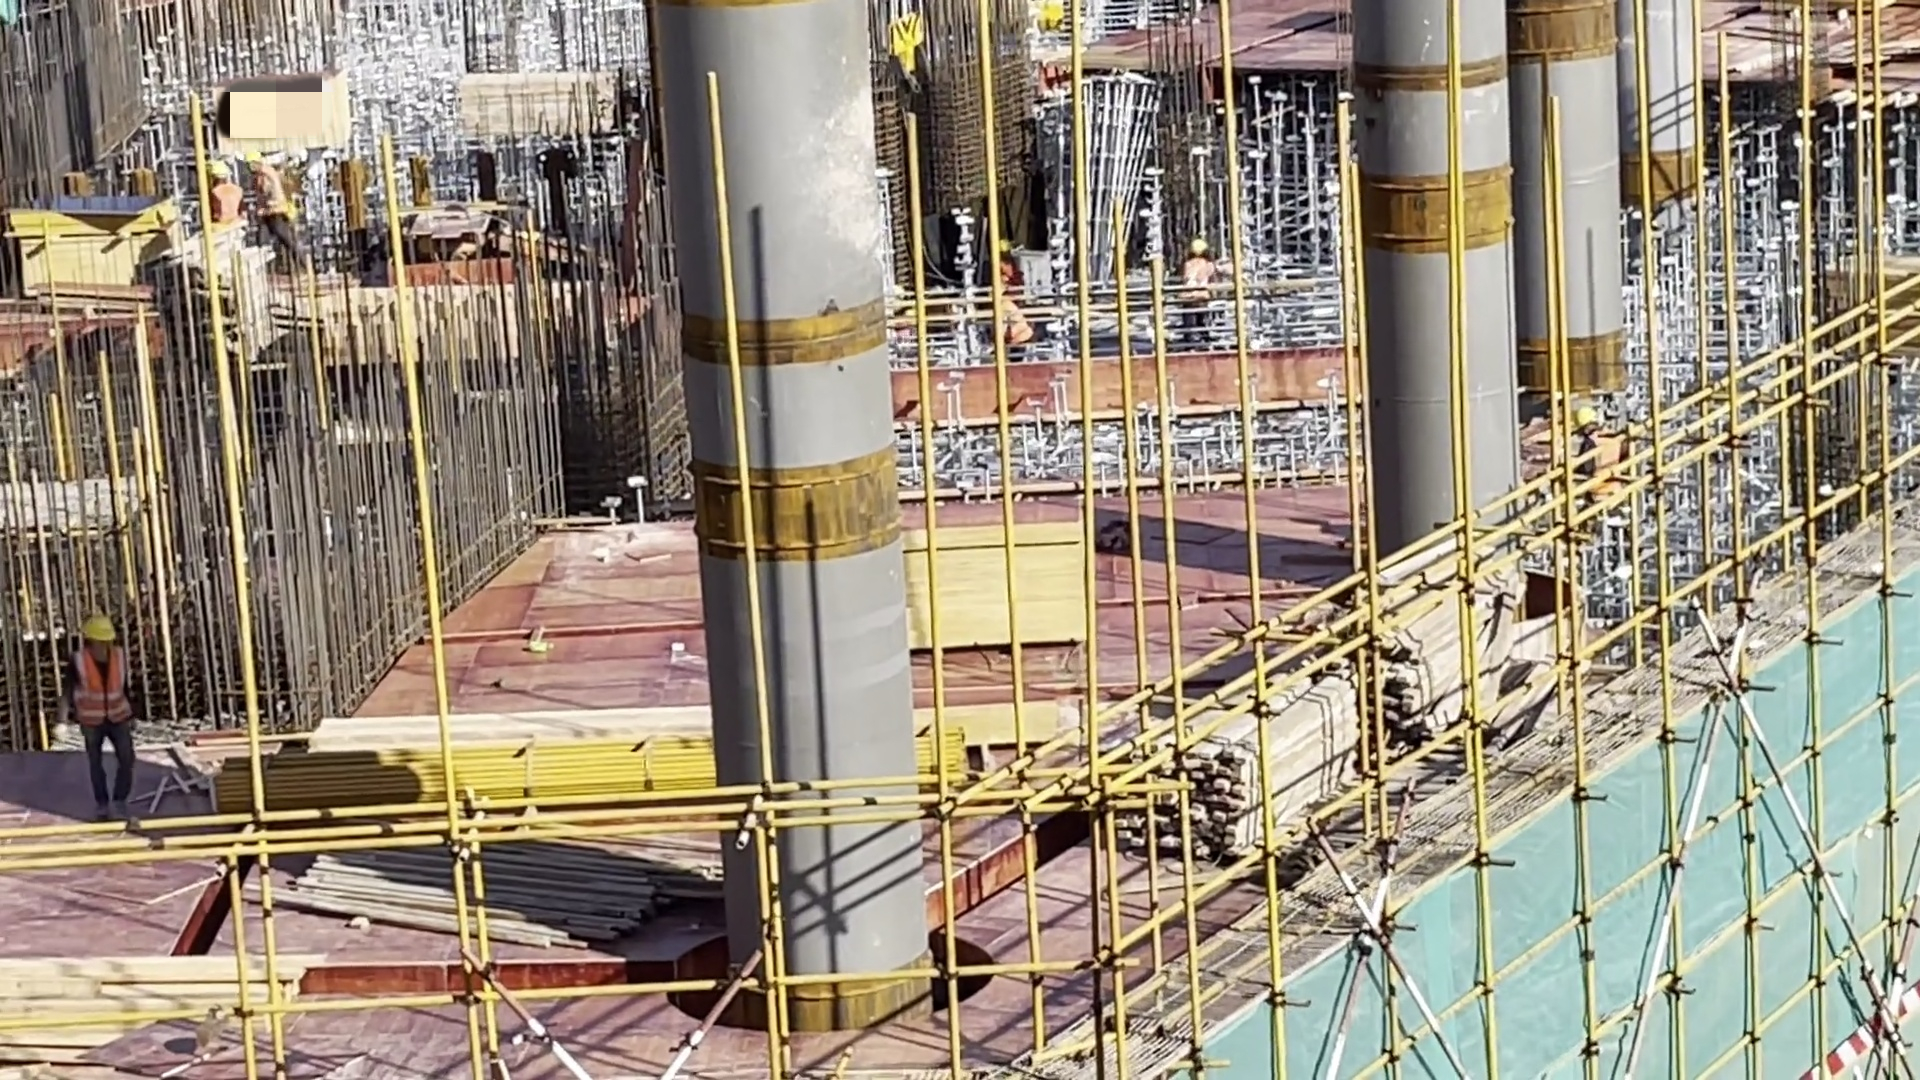helmet: (73, 604, 126, 655), (211, 156, 234, 186), (240, 144, 261, 174)
hook: (874, 10, 944, 120)
person: (57, 602, 145, 816), (240, 157, 322, 271), (1171, 241, 1225, 345), (987, 282, 1043, 363), (194, 165, 239, 229)
vest: (67, 653, 124, 732), (1177, 262, 1219, 314)
wood: (278, 794, 673, 985), (1108, 650, 1378, 879), (1310, 531, 1578, 759)
